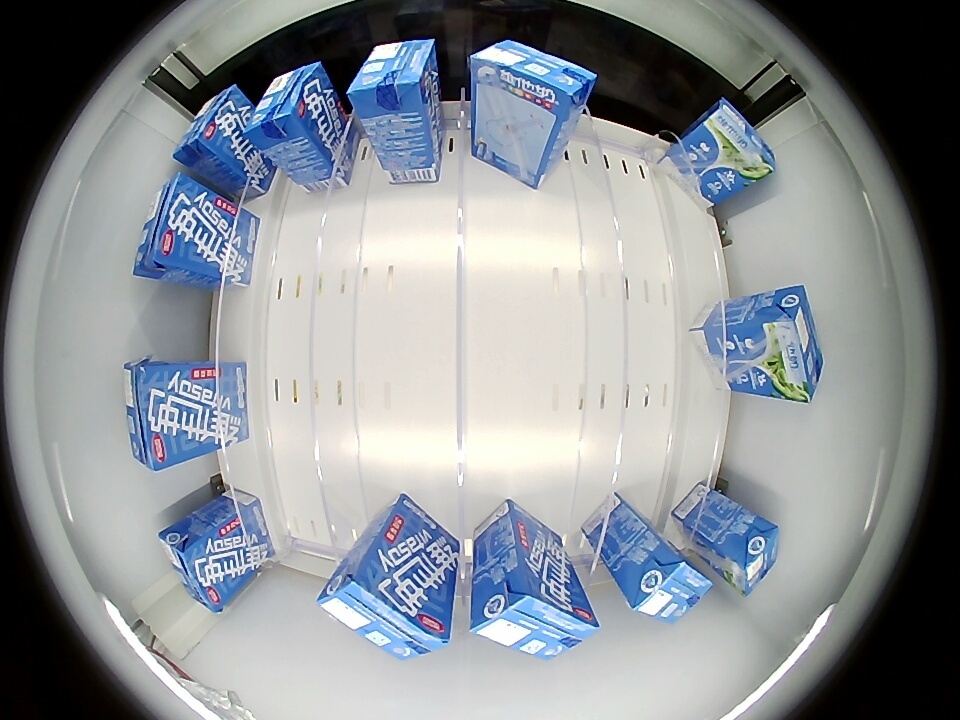weitanai: (316, 558, 455, 659), (471, 576, 602, 660), (470, 40, 596, 120), (133, 172, 218, 280), (124, 359, 201, 472), (246, 61, 336, 154), (754, 285, 822, 403), (689, 98, 776, 189), (346, 40, 438, 126), (158, 518, 235, 613), (173, 85, 253, 171), (625, 550, 715, 622), (721, 515, 780, 594)
